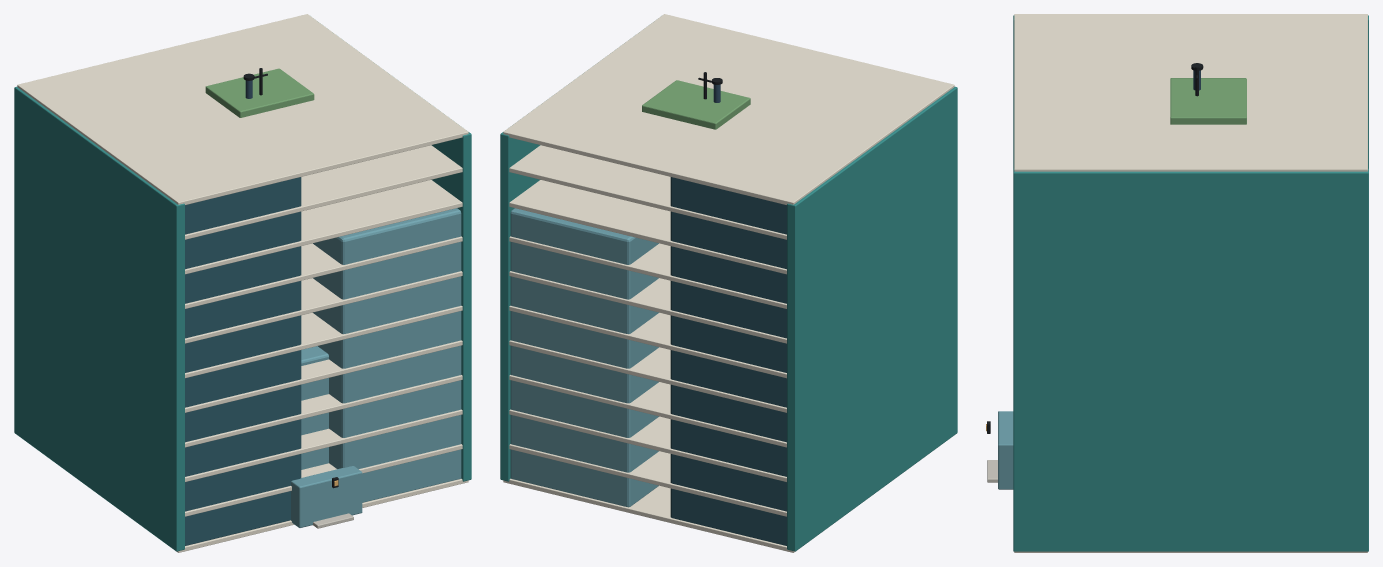
Rendered from OFF_MID_3x3_003.glb.
3 views of the same model, side by side, from view 1: azimuth 30°, elevation 25°; view 2: azimuth 150°, elevation 25°; view 3: azimuth 270°, elevation 25° (orthographic). The views are drawn at different scales.
Visible parts, largest first — view 1: OFF_MID_3x3_003_Visual; view 2: OFF_MID_3x3_003_Visual; view 3: OFF_MID_3x3_003_Visual.
Part boxes in pixels (x1=…): OFF_MID_3x3_003_Visual: x1=14, y1=14, x2=471, y2=552; OFF_MID_3x3_003_Visual: x1=500, y1=14, x2=957, y2=552; OFF_MID_3x3_003_Visual: x1=986, y1=14, x2=1368, y2=552.
Size of what is drawn, in the model's own units: 5.36 by 6.64 by 5.49.
